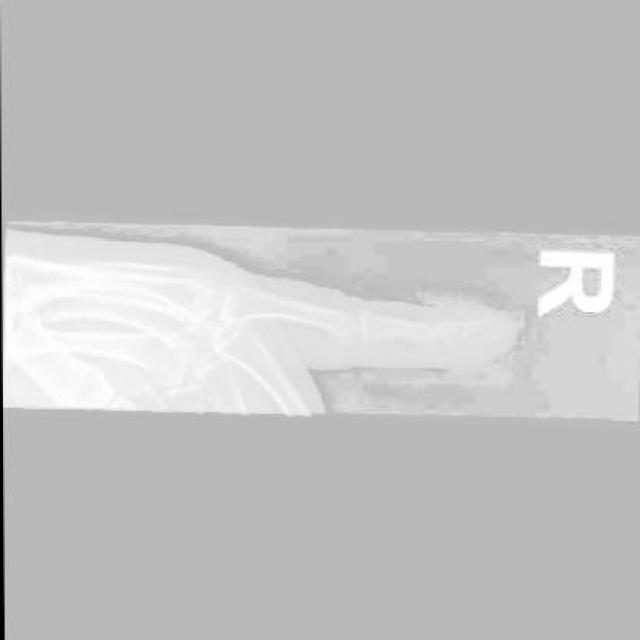Fracture: (466, 312, 508, 349)
